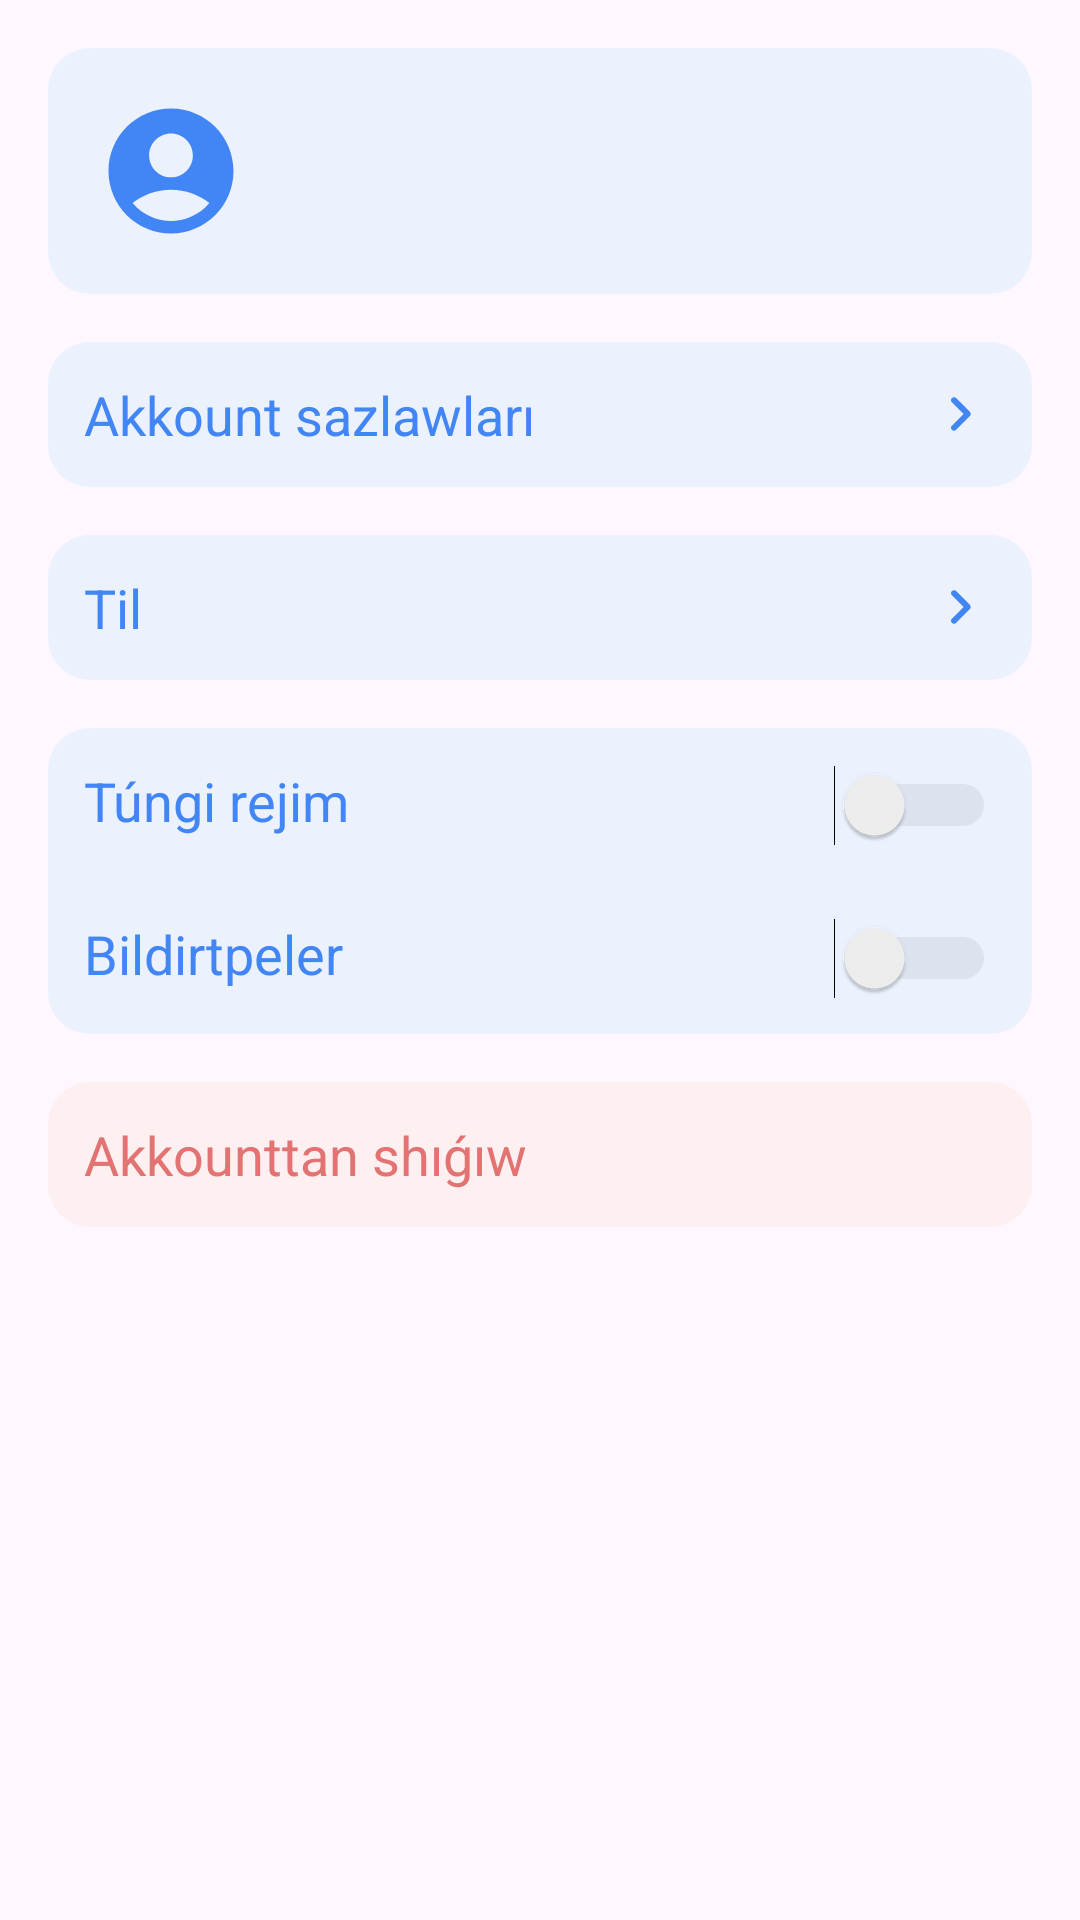

Icon bounding boxes for this 1080*1920 phone screenshot, format {"x1": x1, "y1": y1, "x2": x2, "y2": y2}:
account circle: {"x1": 108, "y1": 108, "x2": 234, "y2": 234}
